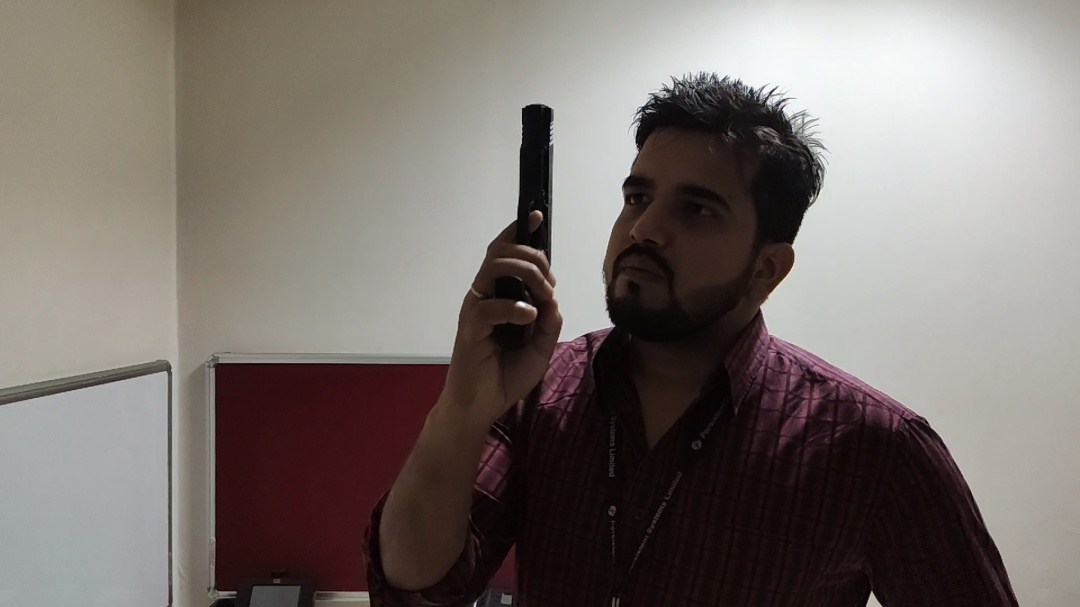gun: (472, 99, 564, 397)
